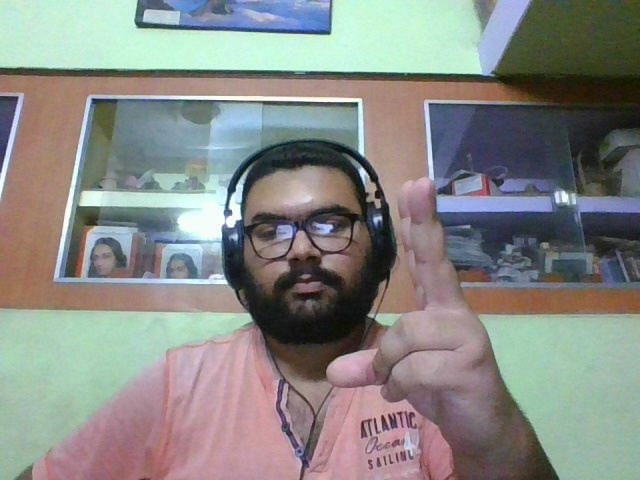iloveyou: (326, 180, 523, 428)
